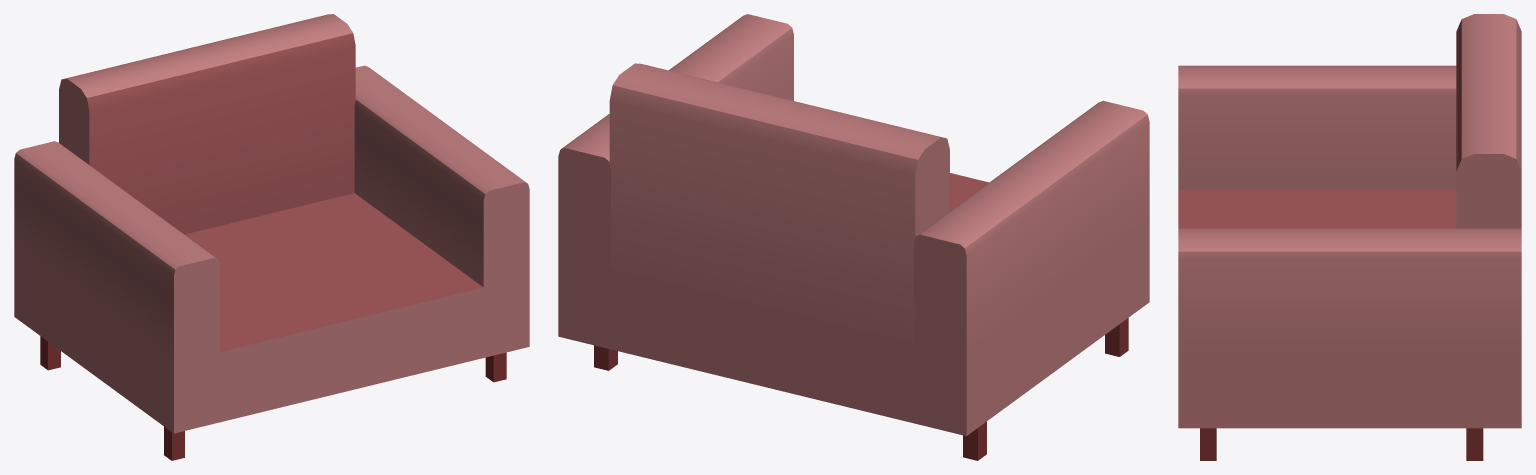
The model's file is Sofa.fbx.
3 views of the same model, side by side, from view 1: azimuth 30°, elevation 25°; view 2: azimuth 150°, elevation 25°; view 3: azimuth 270°, elevation 25° (orthographic). The views are drawn at different scales.
Visible parts, largest first — view 1: Sofa; view 2: Sofa; view 3: Sofa.
Boxes of the visible parts, box(x1,y1,x2,y2) form: Sofa: box(14, 14, 529, 460); Sofa: box(558, 14, 1149, 460); Sofa: box(1178, 14, 1521, 460).
Bounding box in the file's own units: 164 × 119 × 127.
